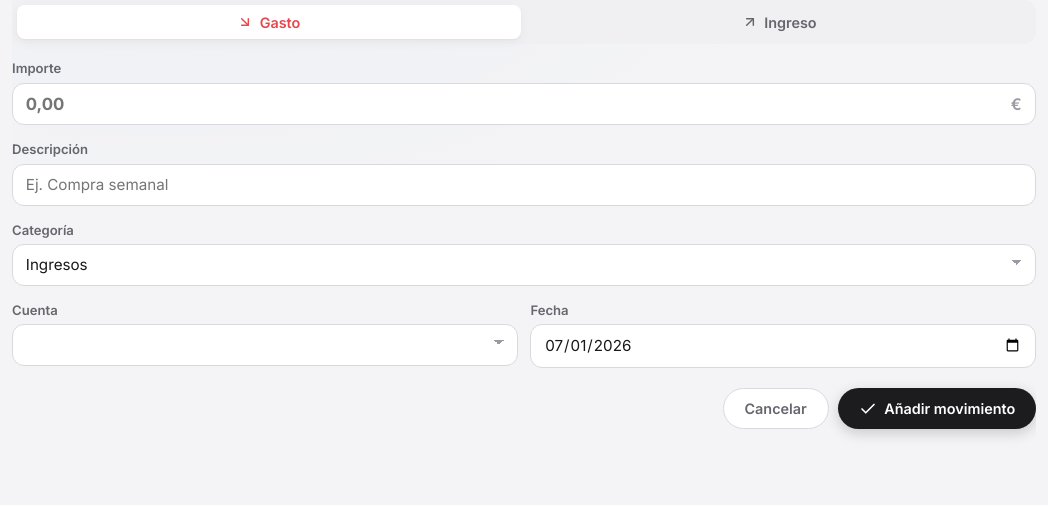
Test: TransactionForm › rejects submission without an account
Type "50" into the field with placeholder "0,00" at (524, 104), box top-left (12, 83), bottom-right (1036, 125)
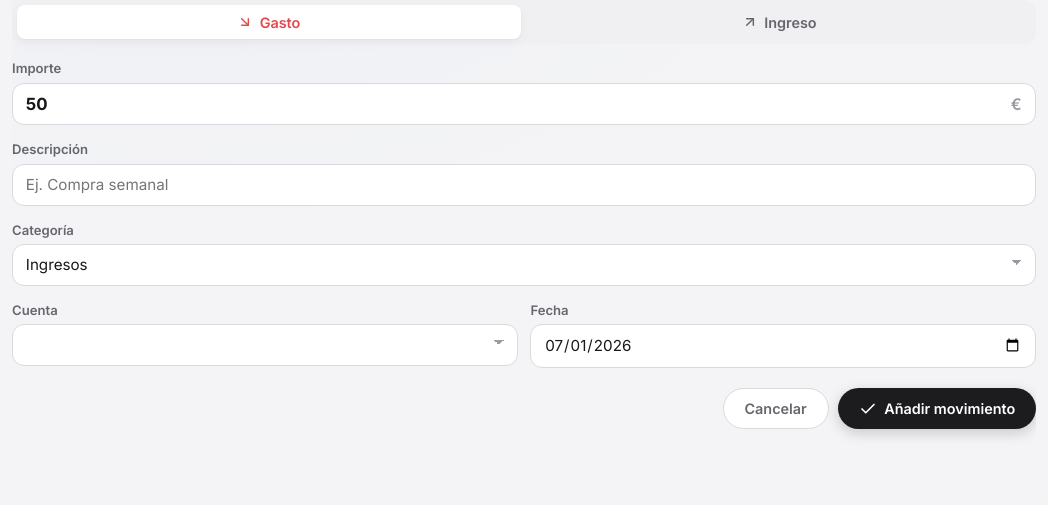
Type "Test" into the field with placeholder "Ej. Compra semanal" at (524, 185), box top-left (12, 164), bottom-right (1036, 206)
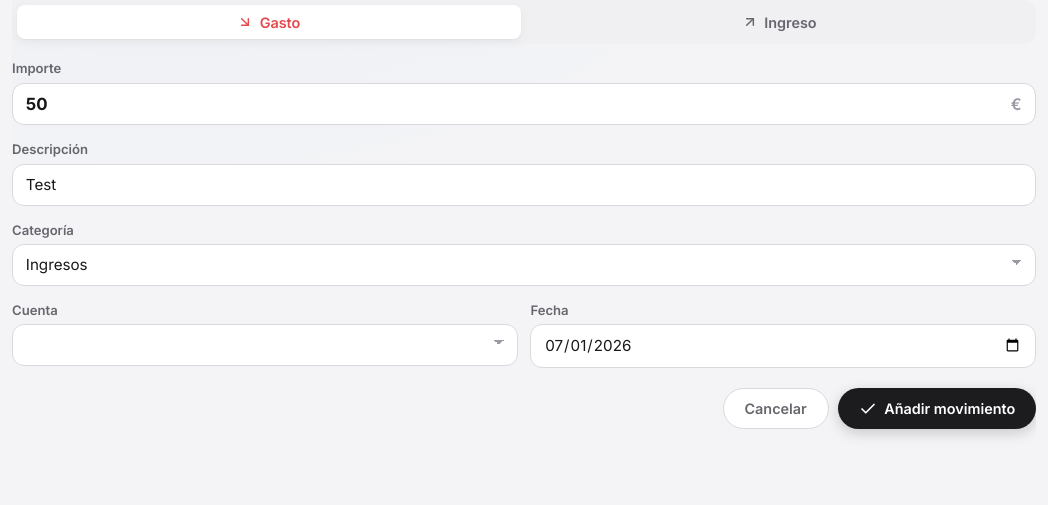
Click the button "Añadir movimiento" at (937, 409), box top-left (838, 388), bottom-right (1036, 429)
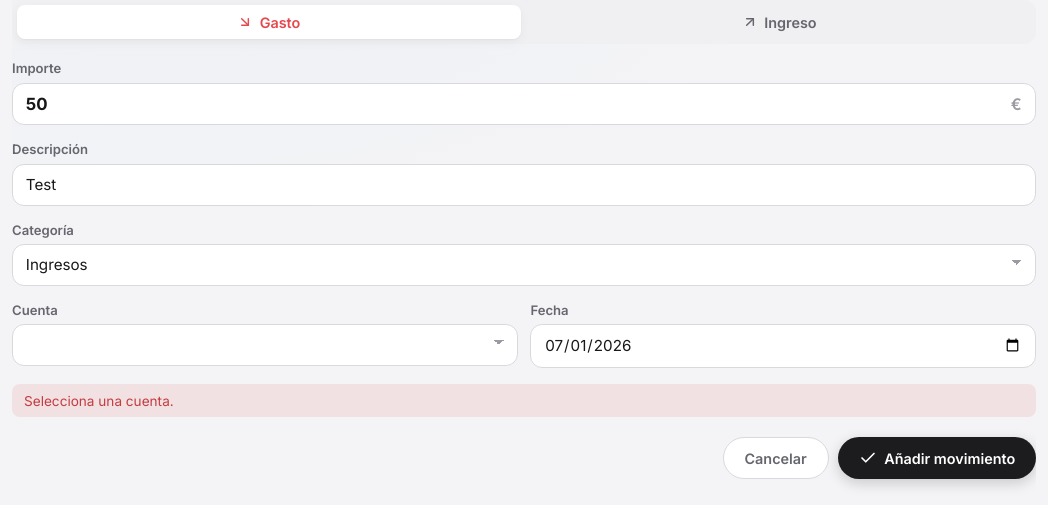
Expected: the text "Selecciona una cuenta." is shown, top-left (12, 384), bottom-right (1036, 418)
